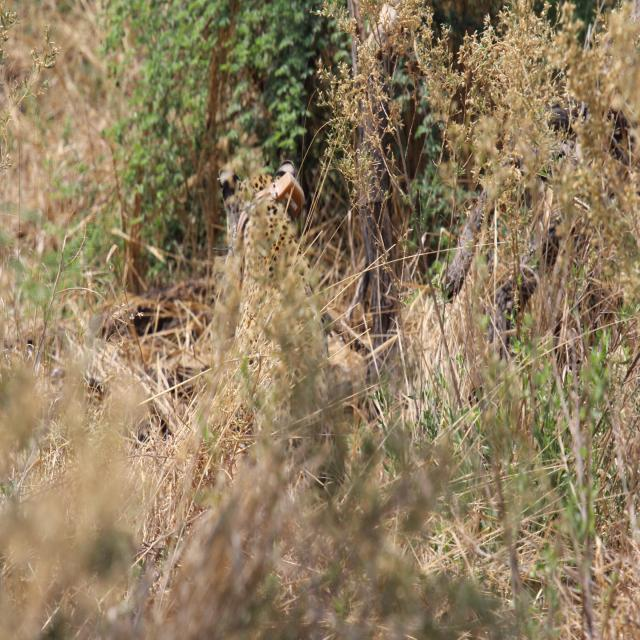Leopard: (219, 133, 339, 512)
